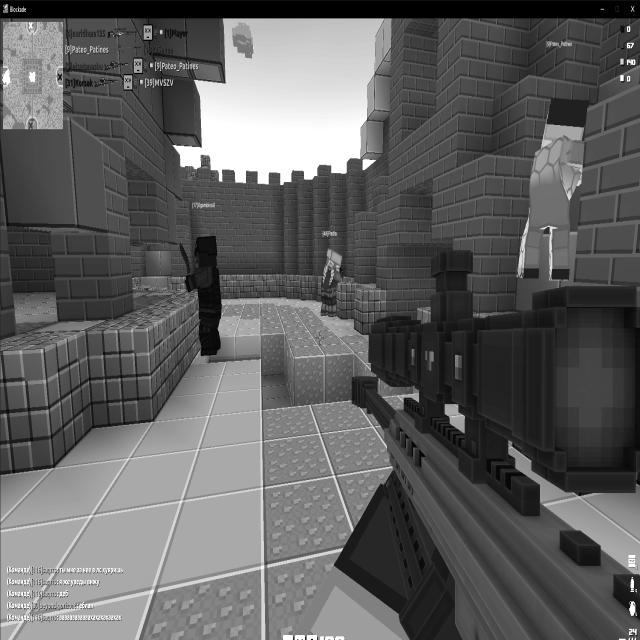Head: (541, 96, 587, 143), (191, 235, 219, 269), (328, 247, 342, 268)
Player: (516, 93, 590, 281), (179, 234, 222, 356), (319, 247, 342, 316)
